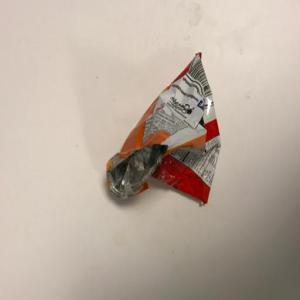Trash: (106, 52, 223, 207)
